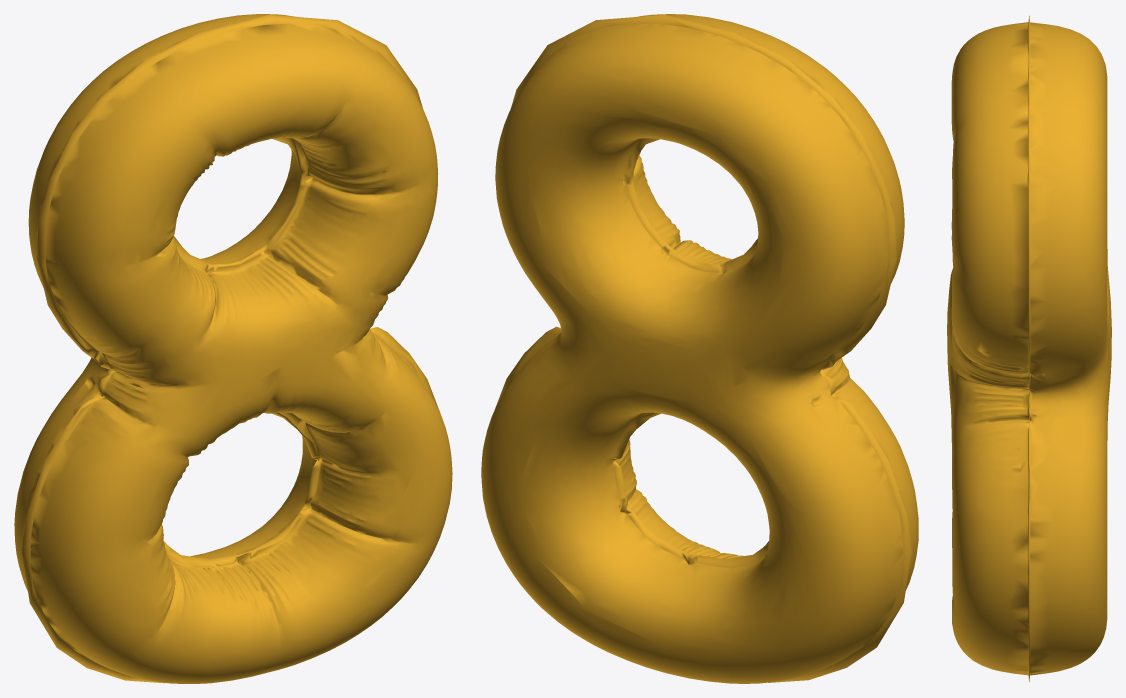
The model's file is zahlen-gold-nr8-gruppe.glb.
3 renders of one model, left to right at view 1: azimuth 30°, elevation 25°; view 2: azimuth 150°, elevation 25°; view 3: azimuth 270°, elevation 25°, orthographic. The views are drawn at different scales.
Parts seen in each view (by area): view 1: nr8; view 2: nr8; view 3: nr8.
Part boxes in pixels (left/top/right/bottom): nr8: left=14, top=14, right=452, bottom=683; nr8: left=481, top=14, right=918, bottom=683; nr8: left=947, top=15, right=1111, bottom=681.
Bounding box in the file's own units: 0.4165 × 0.6121 × 0.1496.
